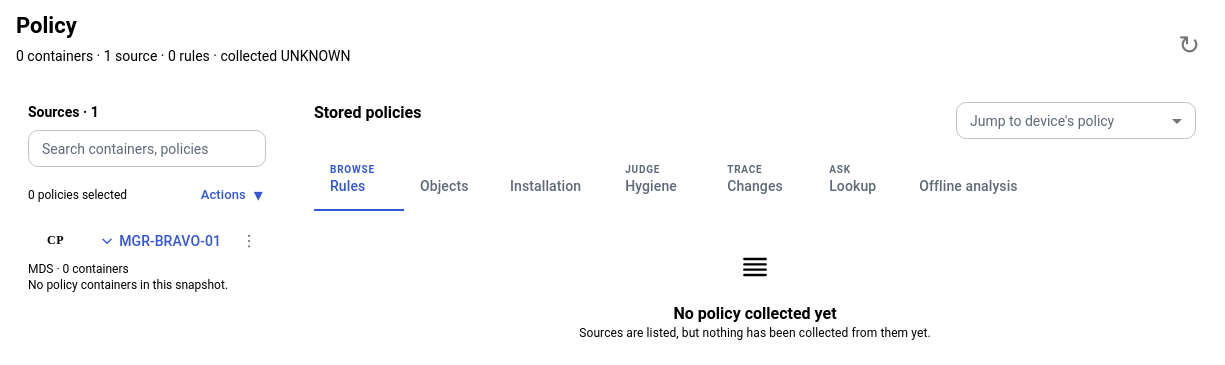
Test: offers first collection on an empty MDS and sends only opaque scope with CSRF
Click the button named "Collection actions for MGR-BRAVO-01" at (249, 241), box [235,227,263,255]
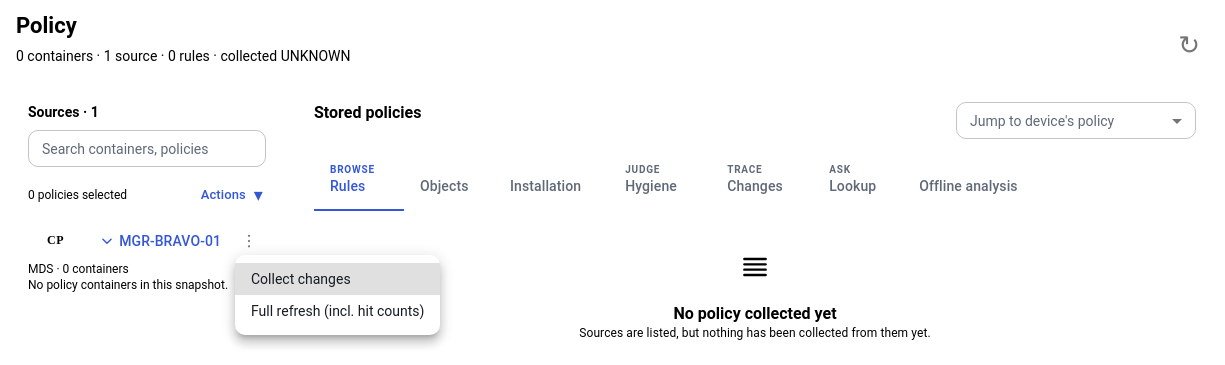
Click the menu item "Collect changes" at (338, 279), box [235,263,440,295]
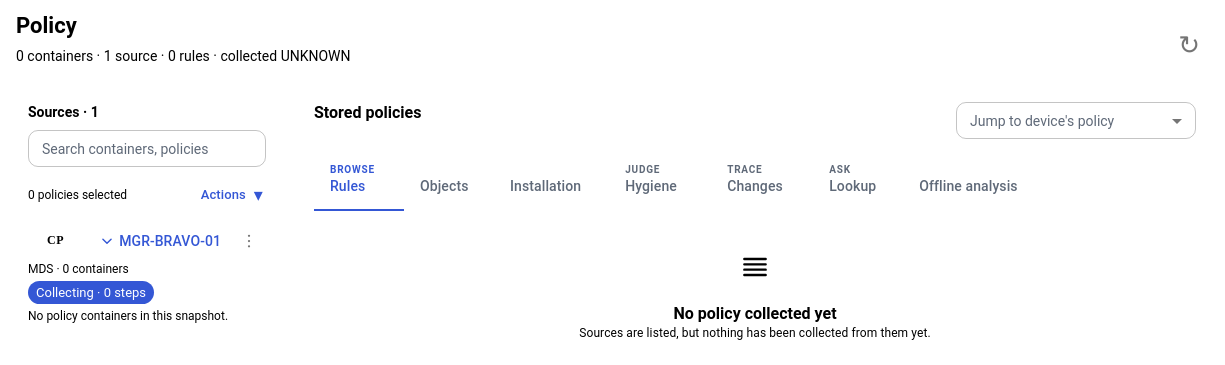
Check: the button named "Refresh snapshots" is shown, box [1170,24,1208,66]
Check: the text "Collecting · 0 steps" is shown, box [28,281,154,304]
